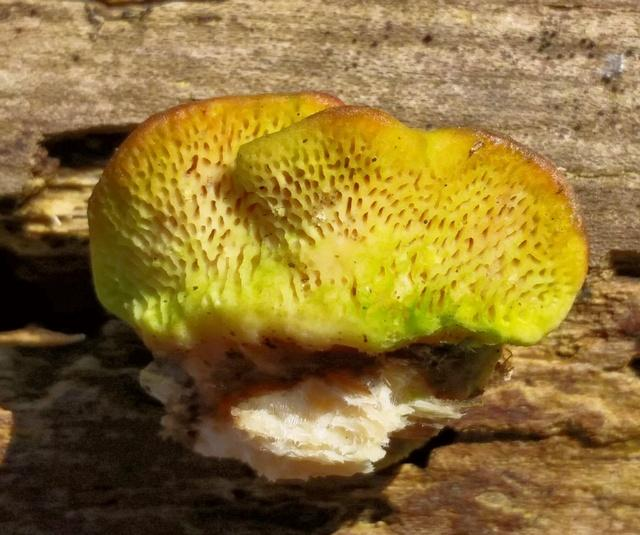poisonous_mushroom: (85, 89, 590, 482)
